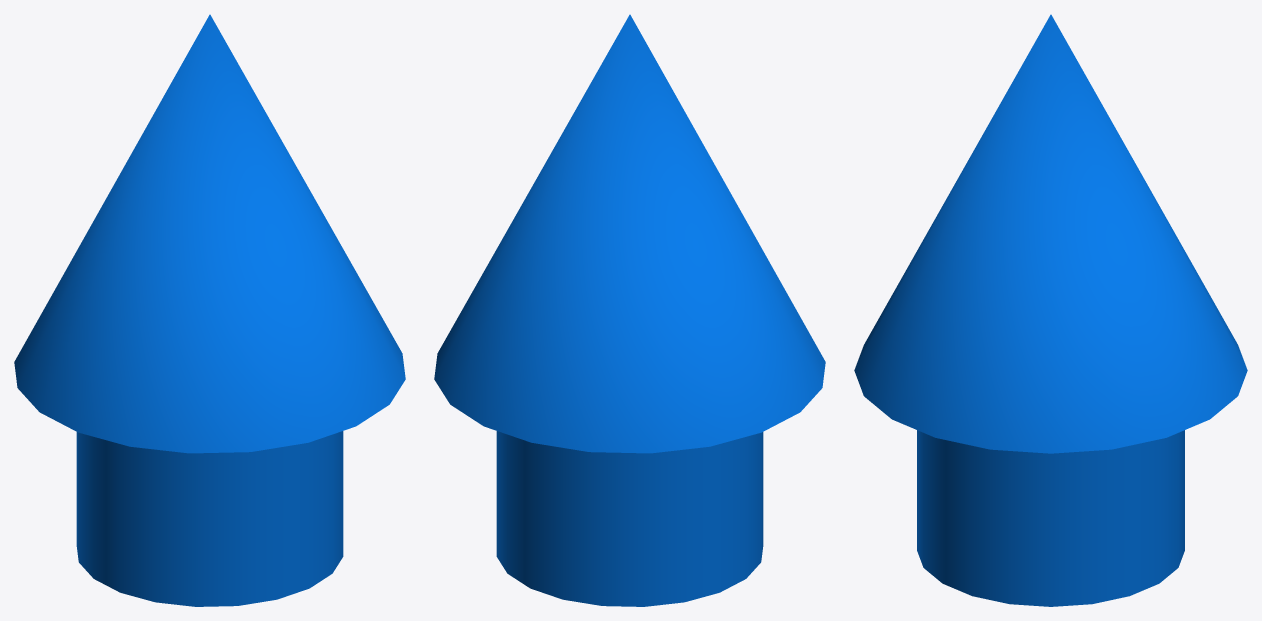
Rendered from ArrowHead.fbx.
3 views of the same model, side by side, from view 1: azimuth 30°, elevation 25°; view 2: azimuth 150°, elevation 25°; view 3: azimuth 270°, elevation 25° (orthographic).
Visible parts, largest first — view 1: pCone2; view 2: pCone2; view 3: pCone2.
Boxes of the visible parts, left/top/right/bottom form: pCone2: left=14, top=14, right=405, bottom=606; pCone2: left=434, top=14, right=825, bottom=606; pCone2: left=854, top=14, right=1247, bottom=606.
Size of the model in its own units: 2.2 by 3.31 by 2.2.
